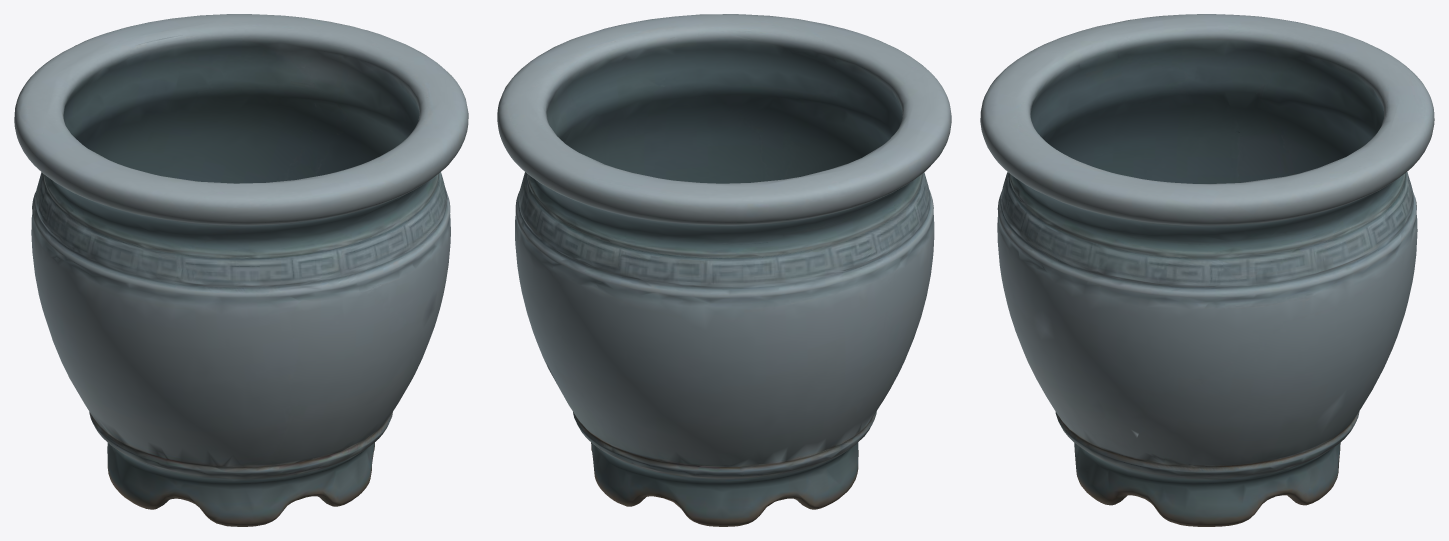
The model's file is flowerPot.glb.
3 views of the same model, side by side, from view 1: azimuth 30°, elevation 25°; view 2: azimuth 150°, elevation 25°; view 3: azimuth 270°, elevation 25° (orthographic).
Visible parts, largest first — view 1: node_0; view 2: node_0; view 3: node_0.
Boxes of the visible parts, box(x1,y1,x2,y2) form: node_0: box(14, 14, 468, 526); node_0: box(497, 14, 951, 526); node_0: box(980, 14, 1434, 526).
Size of the model in its own units: 0.6696 by 0.6 by 0.6693.
1 material, 1 textured.
